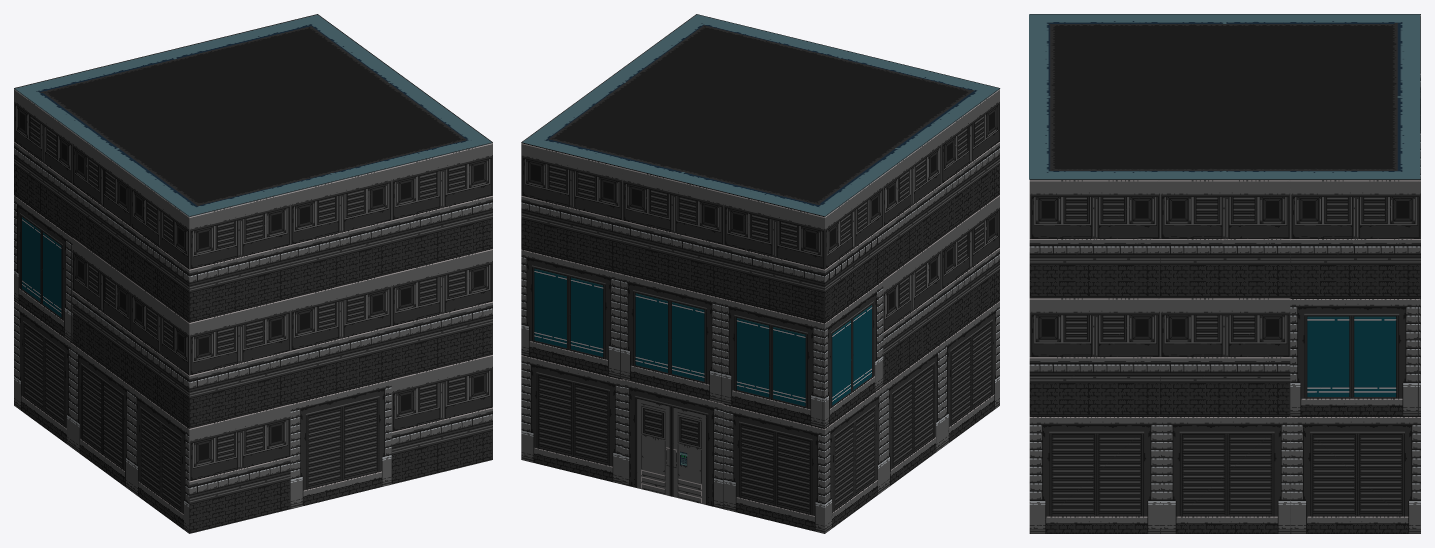
Rendered from 2story.glb.
3 renders of one model, left to right at view 1: azimuth 30°, elevation 25°; view 2: azimuth 150°, elevation 25°; view 3: azimuth 270°, elevation 25°, orthographic. The views are drawn at different scales.
Parts seen in each view (by area): view 1: 2story, roof2; view 2: 2story, roof2; view 3: 2story, roof2.
Boxes of the visible parts, x1,y1,x2,y2 form: 2story: (14, 14, 492, 533); roof2: (14, 14, 491, 216); 2story: (521, 14, 999, 533); roof2: (522, 14, 1000, 216); 2story: (1029, 14, 1420, 533); roof2: (1029, 14, 1420, 179).
Bounding box in the file's own units: 44.93 × 44.88 × 44.94.
2 materials, 2 textured.
